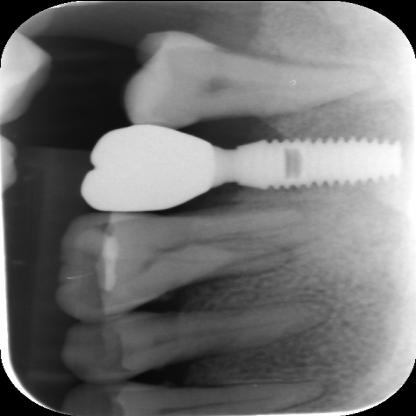Bicon: (231, 134, 409, 192)
